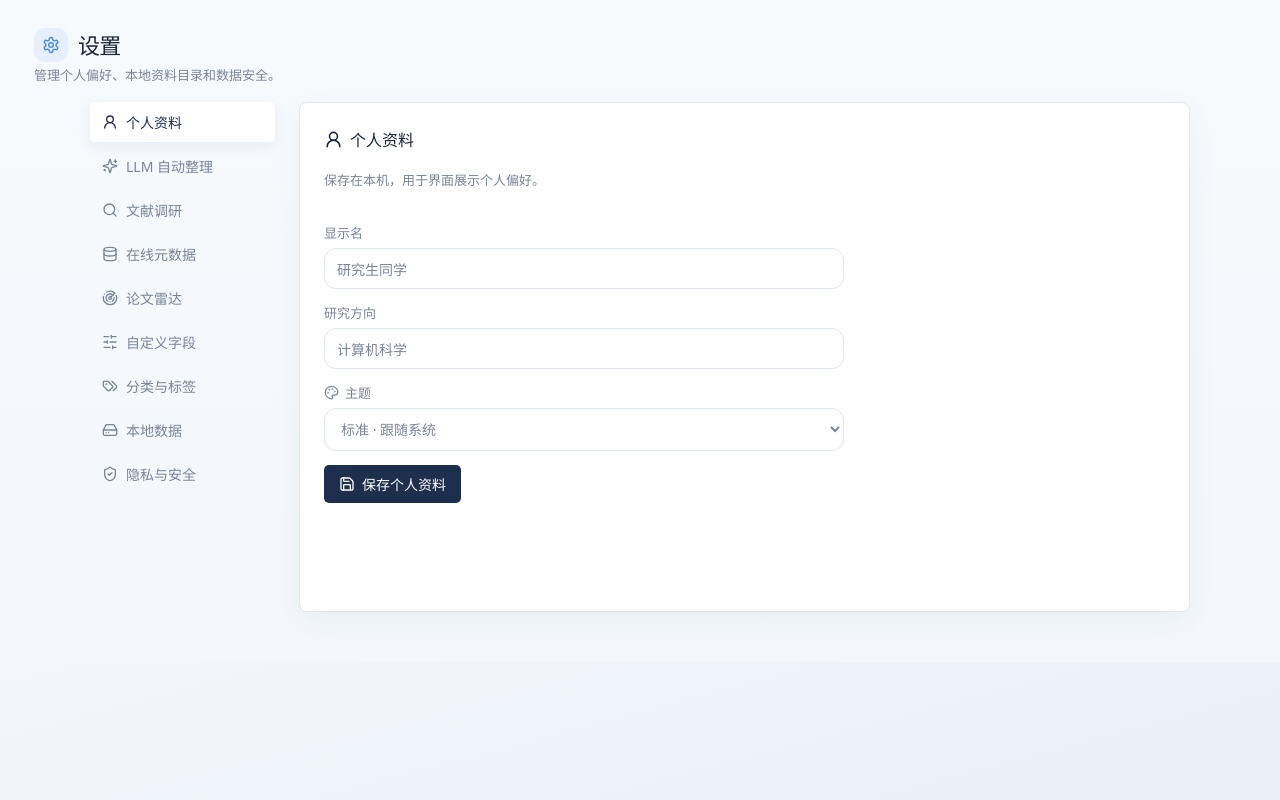
it: profile settings errors › shows a profile save error
The width and height of the screenshot is (1280, 800).
Click the button "保存个人资料".
click(392, 484)  # box [324,465,461,503]
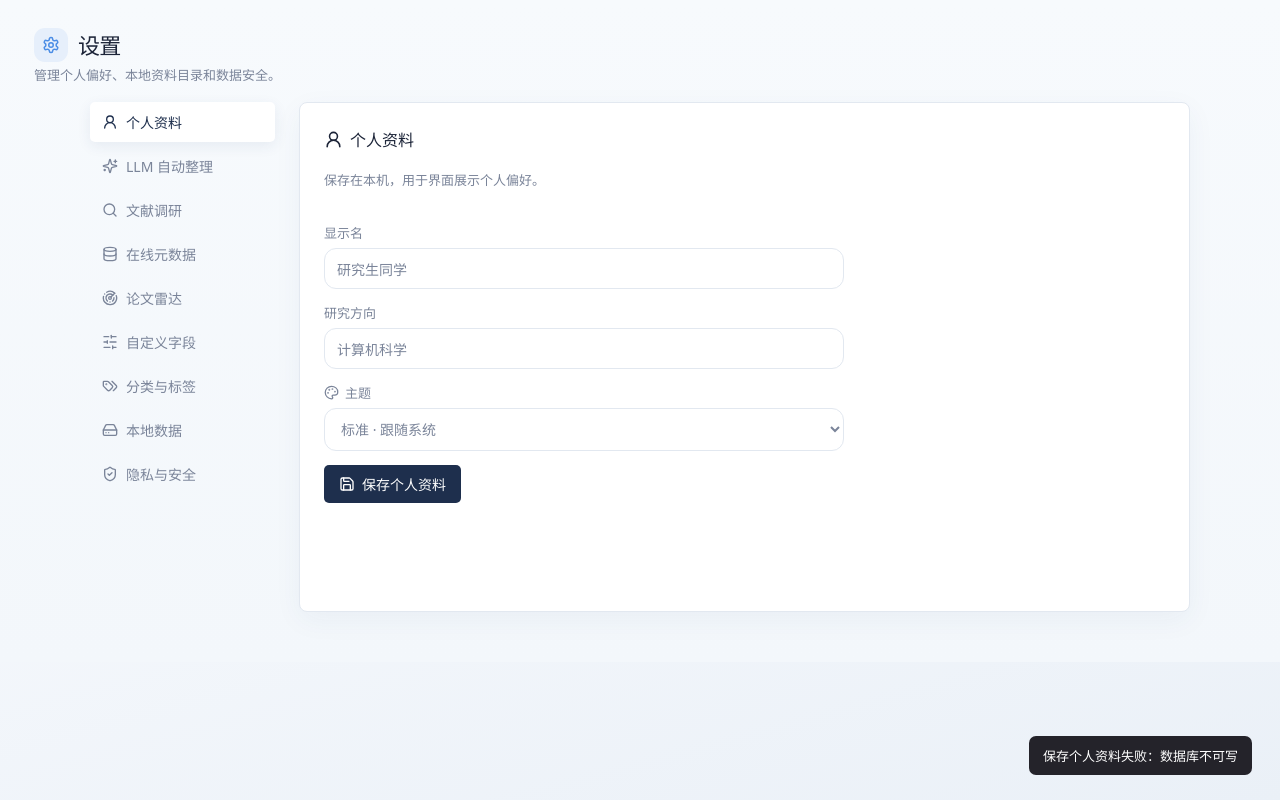
Check: the text "保存个人资料失败：数据库不可写" is shown, box [1029,736,1252,775]
